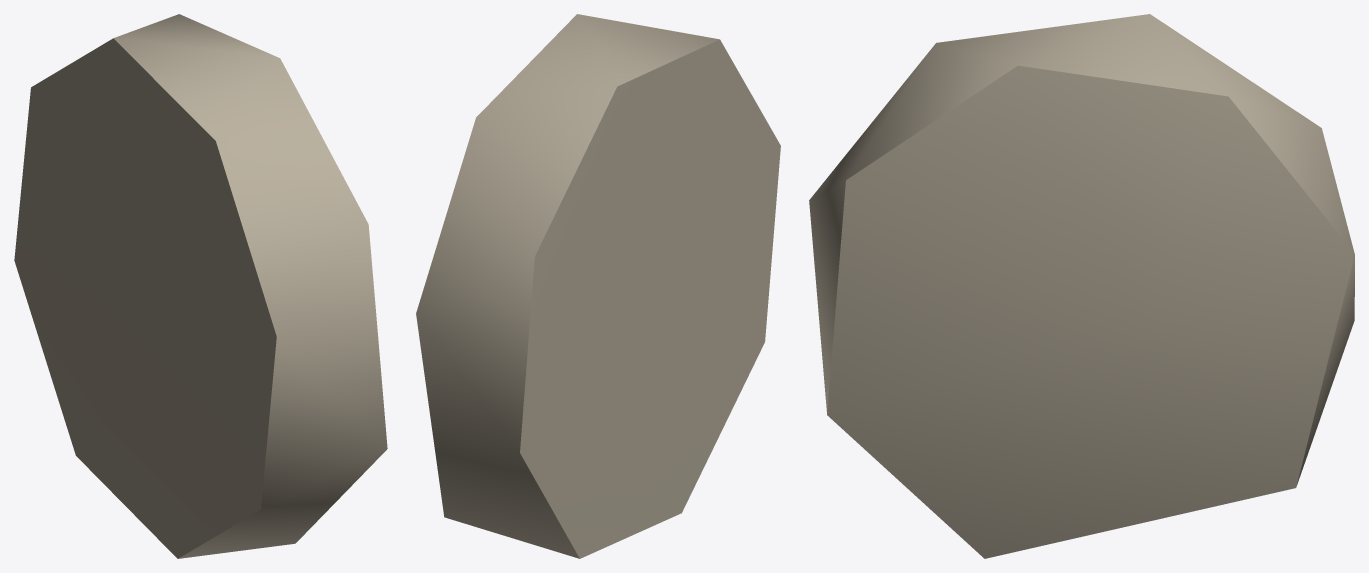
Rendered from original-33.obj.
3 renders of one model, left to right at view 1: azimuth 30°, elevation 25°; view 2: azimuth 150°, elevation 25°; view 3: azimuth 270°, elevation 25°, orthographic. The views are drawn at different scales.
Visible parts, largest first — view 1: mesh33/mesh33-geometry#mesh33-geometry; view 2: mesh33/mesh33-geometry#mesh33-geometry; view 3: mesh33/mesh33-geometry#mesh33-geometry.
Boxes of the visible parts, bbox=[...] form: mesh33/mesh33-geometry#mesh33-geometry: bbox=[14, 14, 387, 558]; mesh33/mesh33-geometry#mesh33-geometry: bbox=[416, 14, 780, 558]; mesh33/mesh33-geometry#mesh33-geometry: bbox=[809, 14, 1354, 558].
Bounding box in the file's own units: 0.0279 × 0.0812 × 0.0812.
